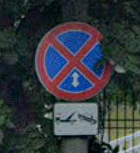oprirea_interzisa: (35, 21, 115, 102)
